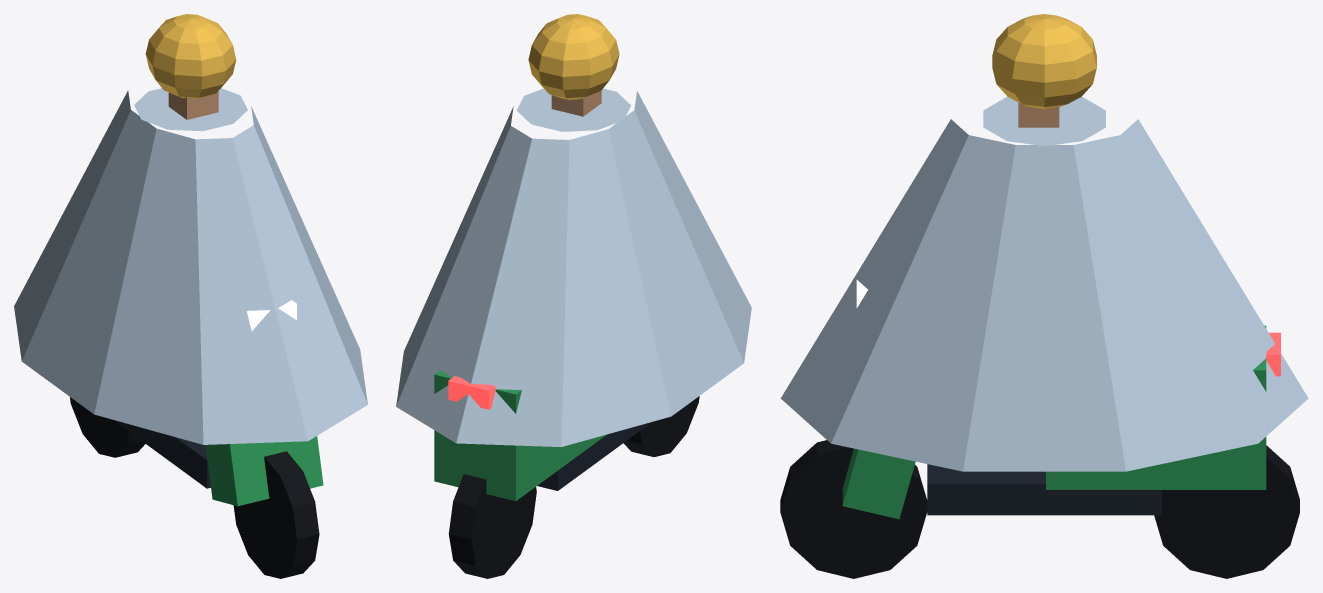
File: poncho_rider_clear.glb
The picture shows the model from 3 angles, left to right: view 1: azimuth 30°, elevation 25°; view 2: azimuth 150°, elevation 25°; view 3: azimuth 270°, elevation 25°; orthographic projection. The views are drawn at different scales.
Parts seen in each view (by area): view 1: poncho_rider; view 2: poncho_rider; view 3: poncho_rider.
Boxes of the visible parts, x1,y1,x2,y2 form: poncho_rider: (14, 14, 367, 578); poncho_rider: (396, 14, 751, 578); poncho_rider: (780, 14, 1308, 578).
Size of the model in its own units: 1.18 by 2.08 by 1.8.
